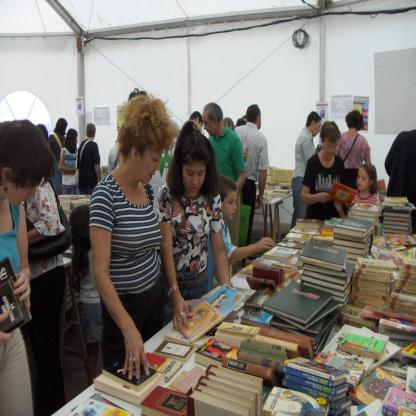book: (44, 159, 415, 415)
